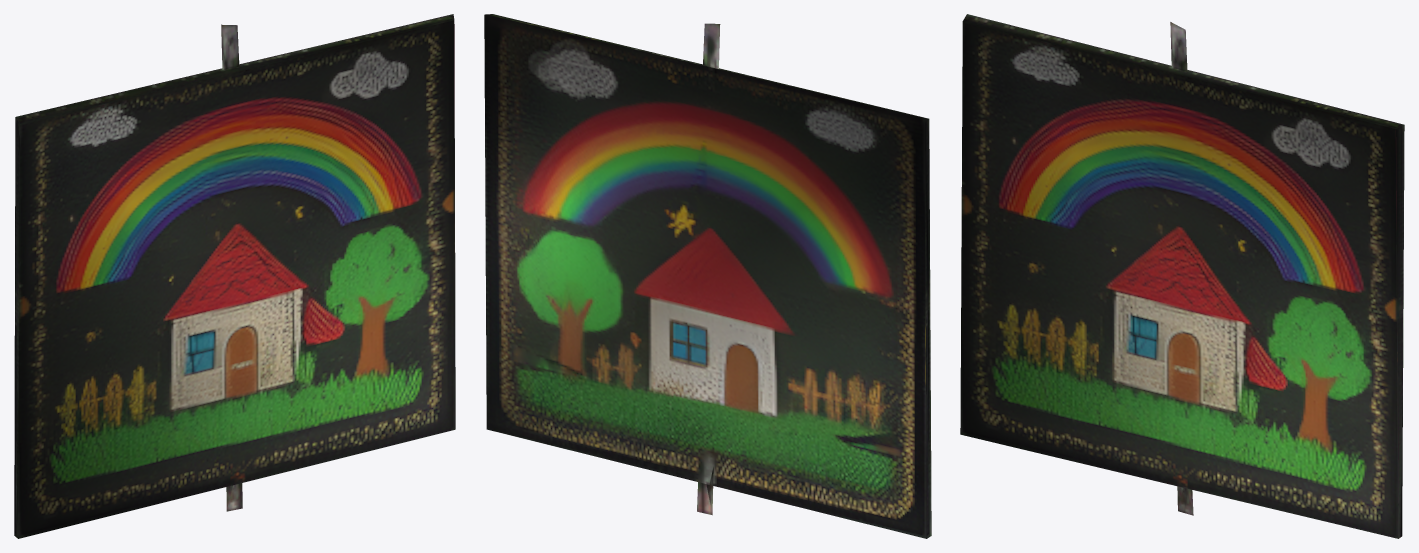
Rendered from all  kids_paintings3.fbx.
The picture shows the model from 3 angles, left to right: view 1: azimuth 30°, elevation 25°; view 2: azimuth 150°, elevation 25°; view 3: azimuth 330°, elevation 25°; orthographic projection.
Visible parts, largest first — view 1: all kids_paintings3; view 2: all kids_paintings3; view 3: all kids_paintings3.
Part boxes in pixels (<box>): all kids_paintings3: <box>14,14,455,538</box>; all kids_paintings3: <box>484,14,931,538</box>; all kids_paintings3: <box>960,14,1404,538</box>.
Bounding box in the file's own units: 137 × 146 × 2.56.
Materials: 1 (1 with a texture image).
